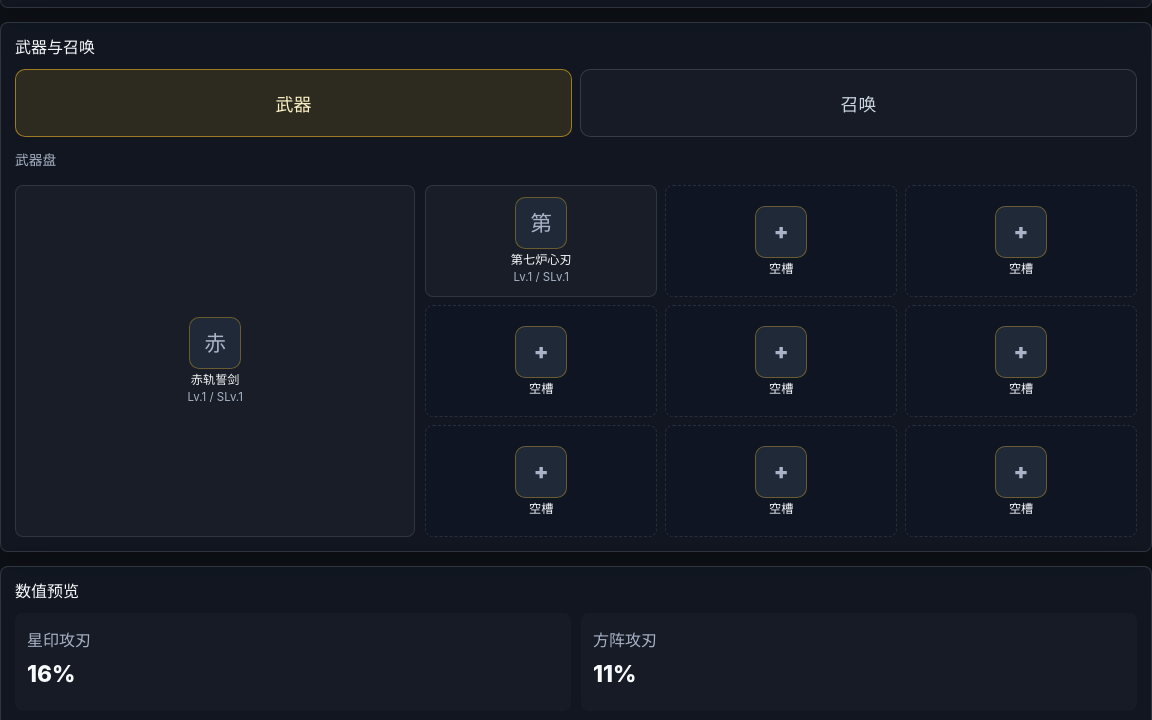
Scenario: formation screen › opens modal pickers and shows compact equipment details
(page scrolled)
Click the button with test id "weapon-main-slot-trigger" at (215, 361), box [15,185,415,537]
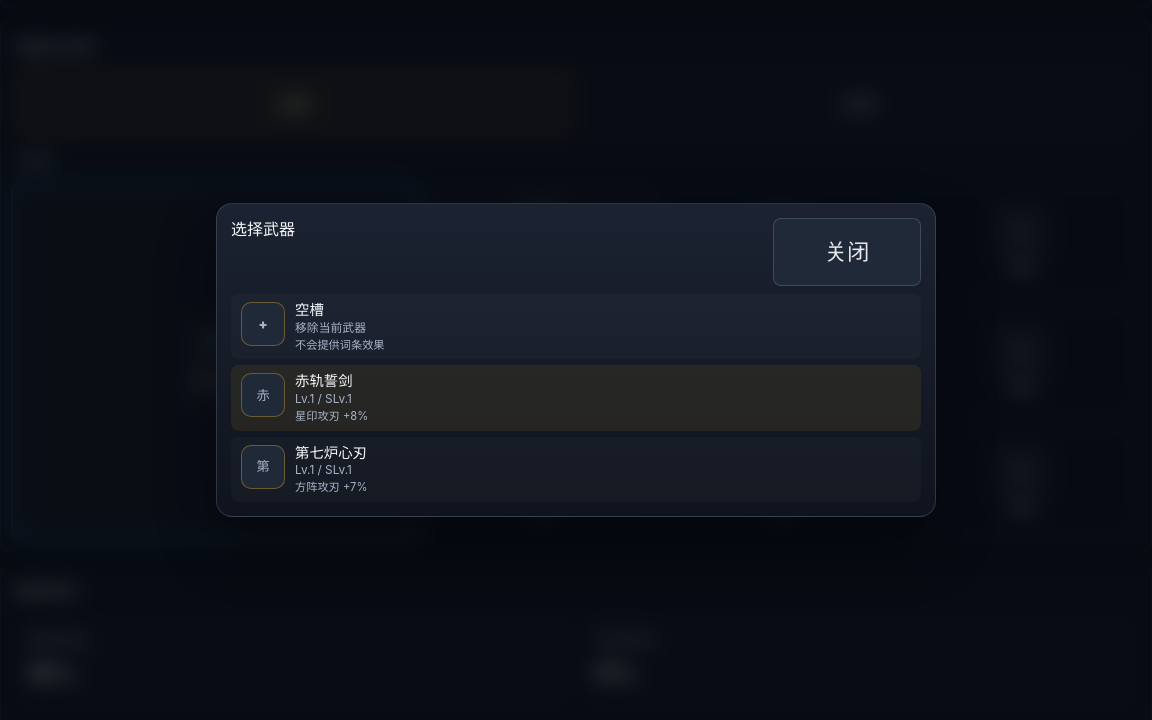
Check: the dialog is shown, box [216,203,936,516]
Check: the 2nd text "Lv.1 / SLv.1" is shown, box [295,463,352,477]
Check: the text "方阵攻刃 +7%" is shown, box [295,480,367,494]
Click the button with test id "weapon-picker-option-weapon-furnace-grid-blade" at (263, 467), box [231,436,921,502]
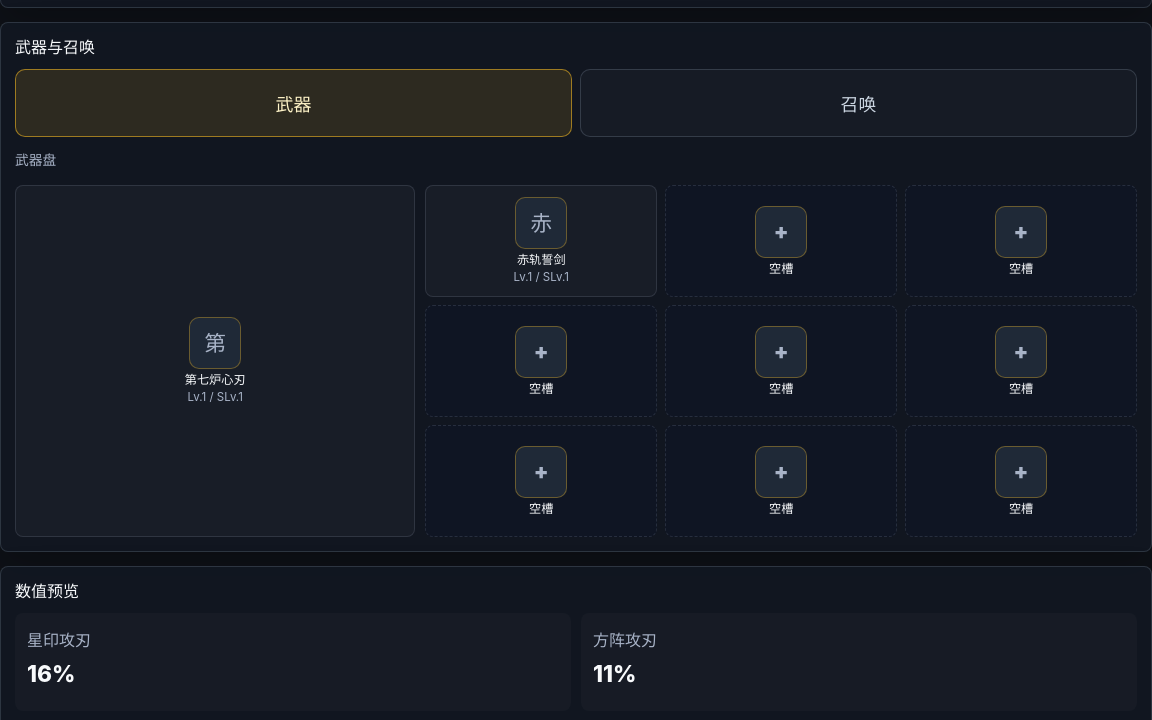
Check: the element with test id "weapon-main-slot" shows "第七炉心", box [15,185,415,537]
Click the button with test id "formation-equipment-page-summon" at (858, 103), box [580,69,1137,137]
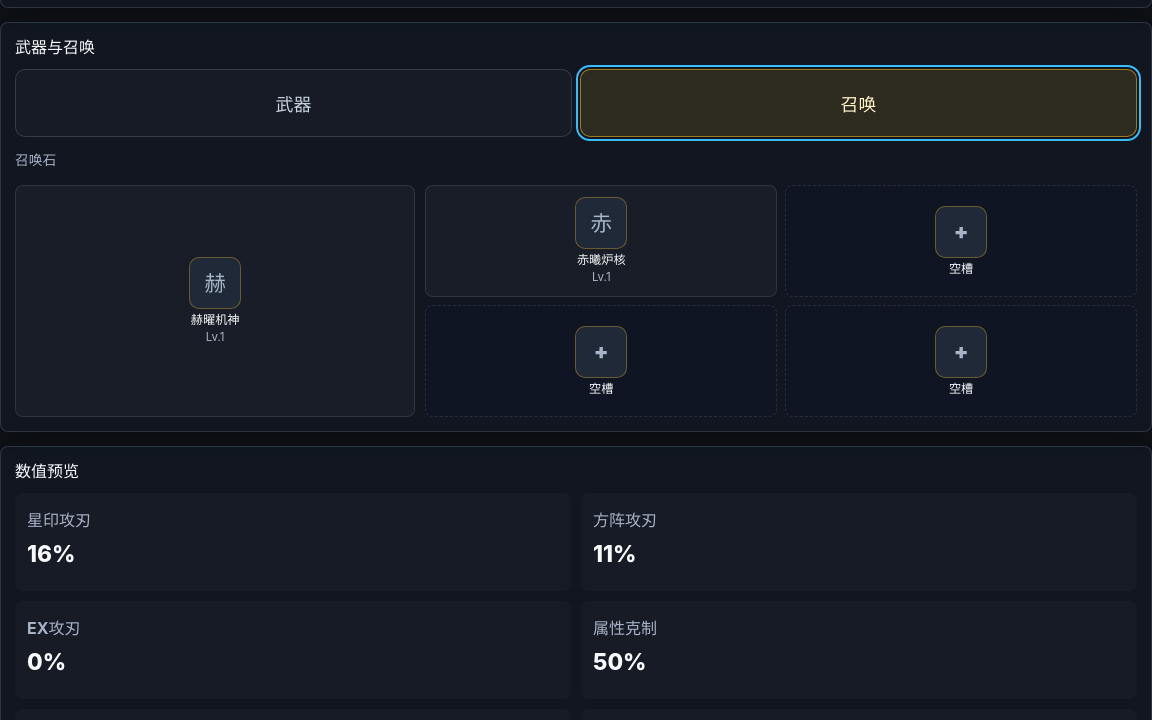
Check: the number of elements with test id "summon-grid-slot" is 5, box [189,257,241,344]; [575,197,627,284]; [935,206,987,276]; [575,326,627,396]; [935,326,987,396]
Click the button with test id "summon-main-slot-trigger" at (215, 301), box [15,185,415,417]
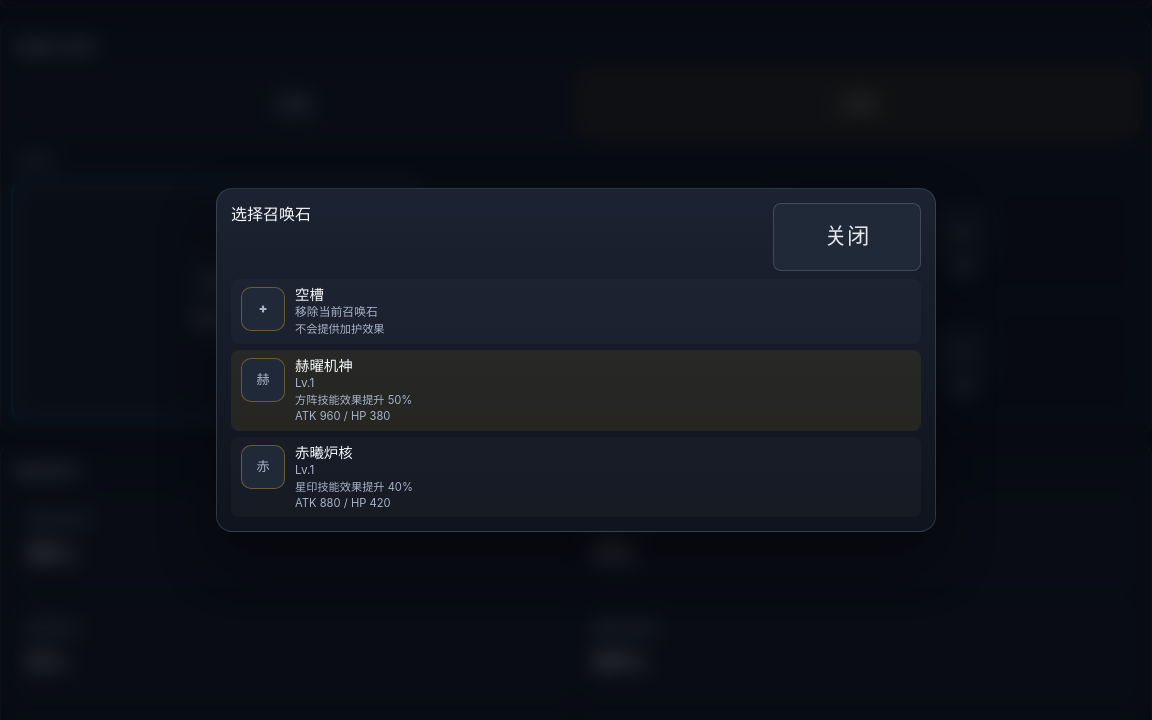
Check: the dialog is shown, box [216,188,936,532]
Check: the text "ATK 880 / HP 420" is shown, box [295,496,391,510]
Click the button with test id "summon-picker-option-summon-aurora-core" at (263, 467), box [231,436,921,517]
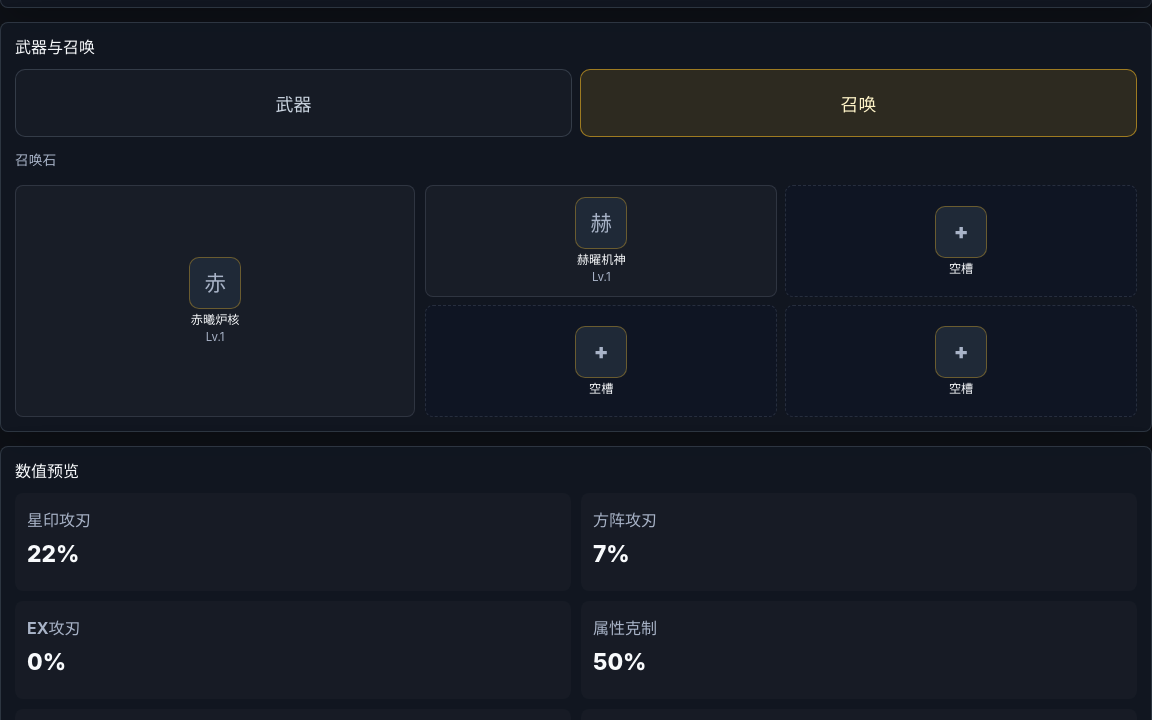
Check: the element with test id "summon-main-slot" shows "曦炉核", box [15,185,415,417]
